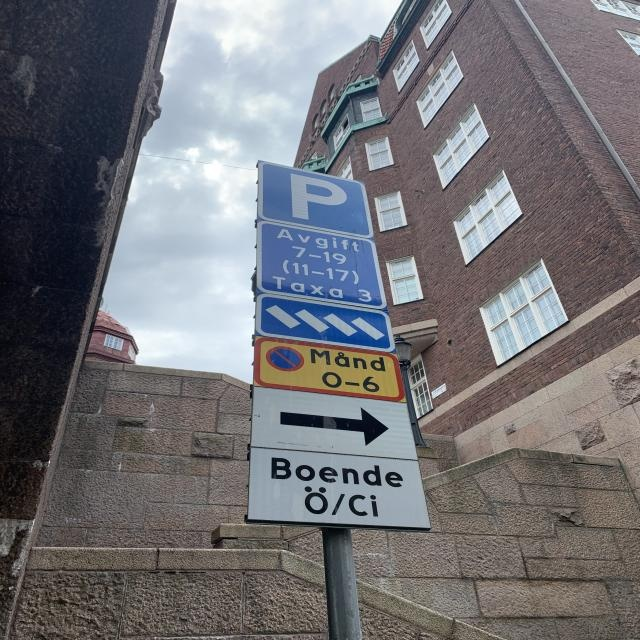P-skylt: (254, 156, 382, 242)
